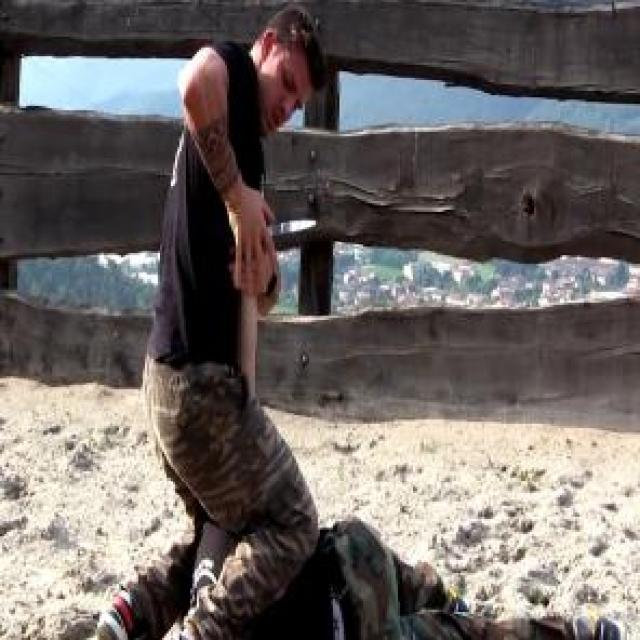knife: (246, 201, 326, 252)
